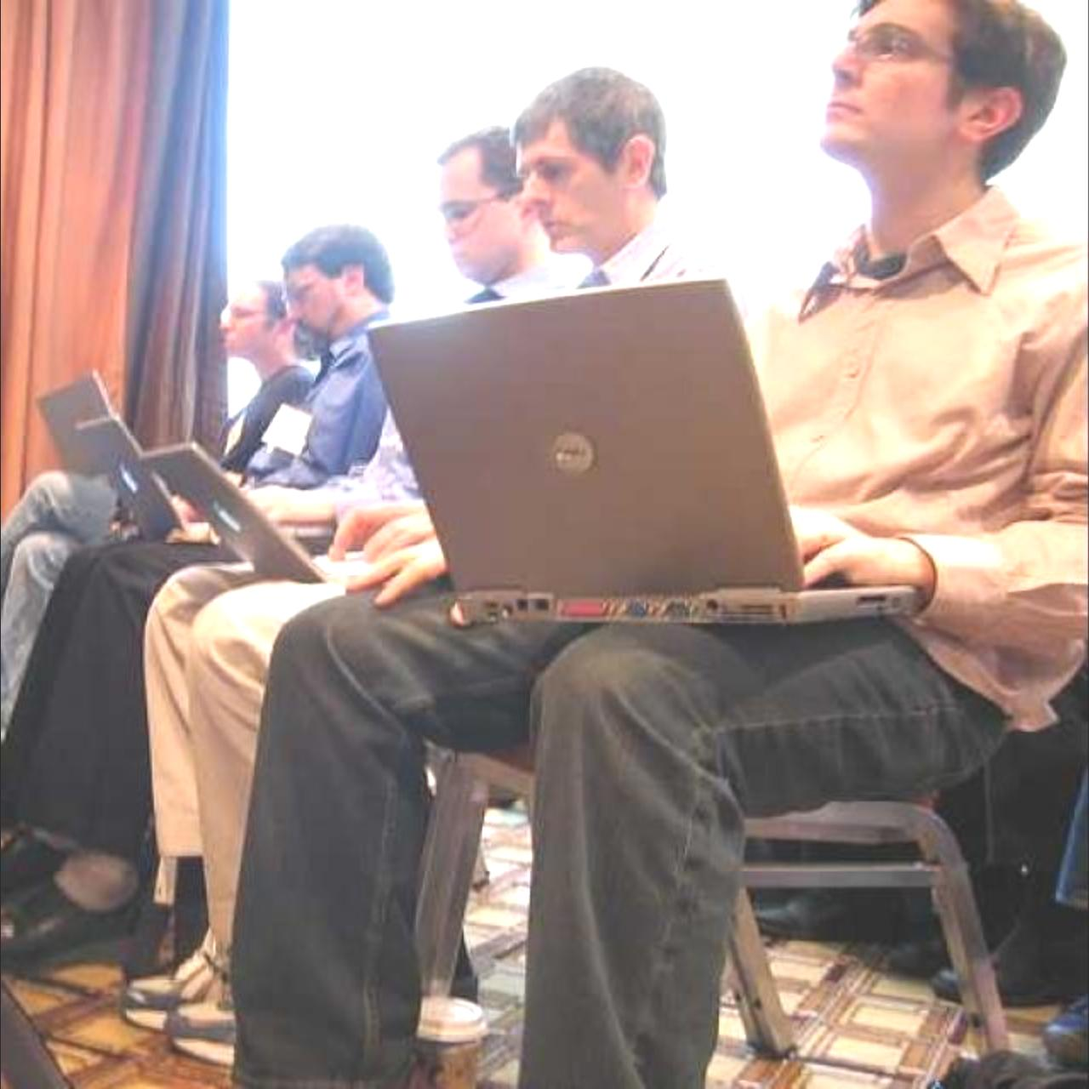laptop: (368, 289, 836, 609), (47, 369, 334, 584), (54, 386, 143, 499)
